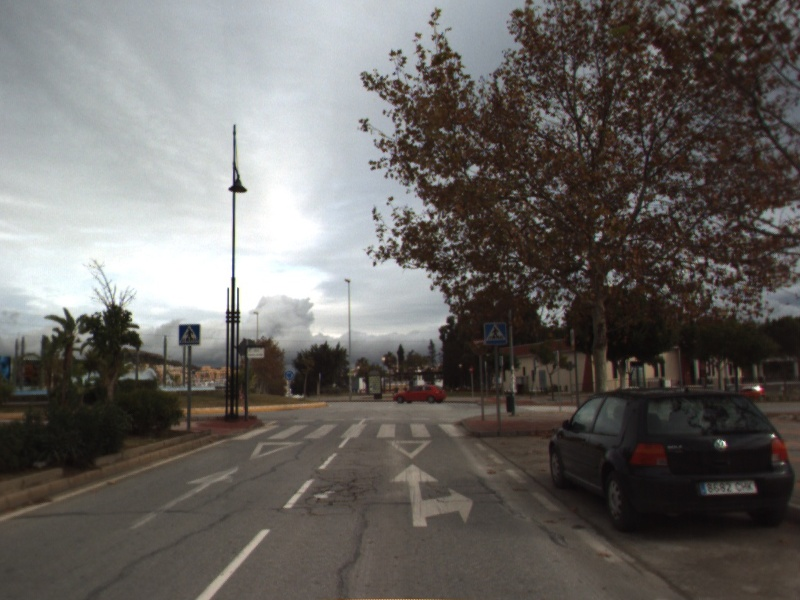STRAIGHT: (126, 463, 244, 532)
STRAIGHT_RIGHT: (387, 461, 475, 529)
